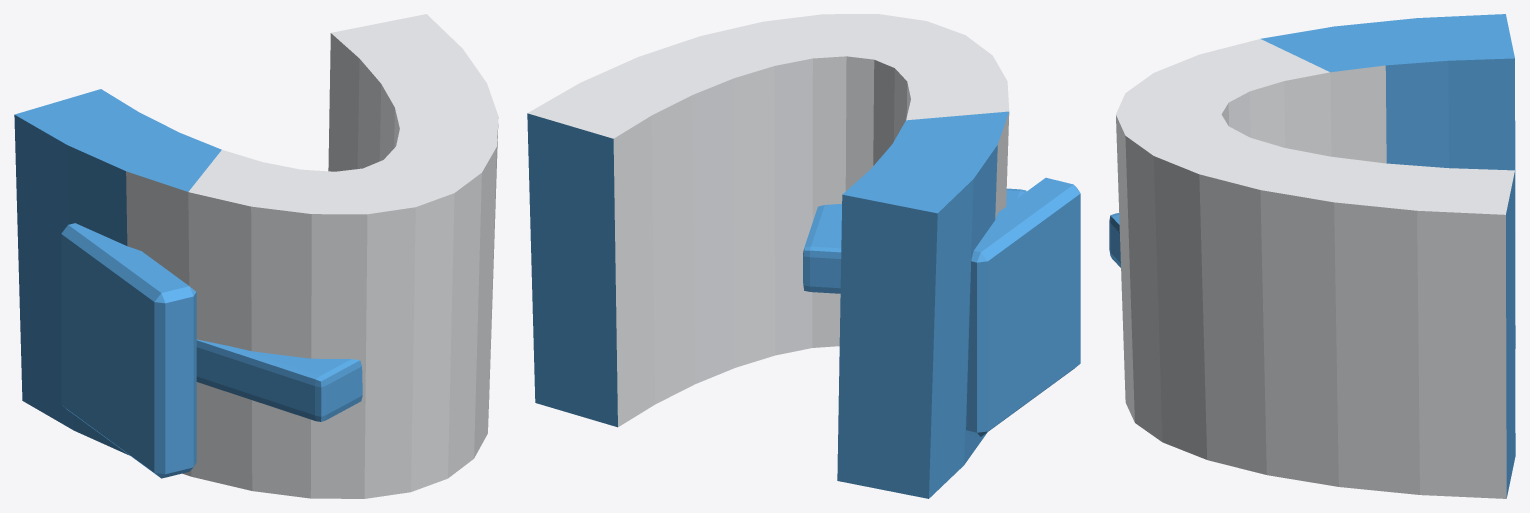
File: right_shoulder__winged_fin.glb
3 views of the same model, side by side, from view 1: azimuth 30°, elevation 25°; view 2: azimuth 150°, elevation 25°; view 3: azimuth 270°, elevation 25° (orthographic).
Parts seen in each view (by area): view 1: armor_right_shoulder__winged_fin_v001; view 2: armor_right_shoulder__winged_fin_v001; view 3: armor_right_shoulder__winged_fin_v001.
Boxes of the visible parts, left/top/right/bottom form: armor_right_shoulder__winged_fin_v001: left=14, top=14, right=498, bottom=498; armor_right_shoulder__winged_fin_v001: left=527, top=14, right=1080, bottom=498; armor_right_shoulder__winged_fin_v001: left=1109, top=14, right=1515, bottom=498.
Size of the model in its own units: 0.1772 by 0.118 by 0.1507.
